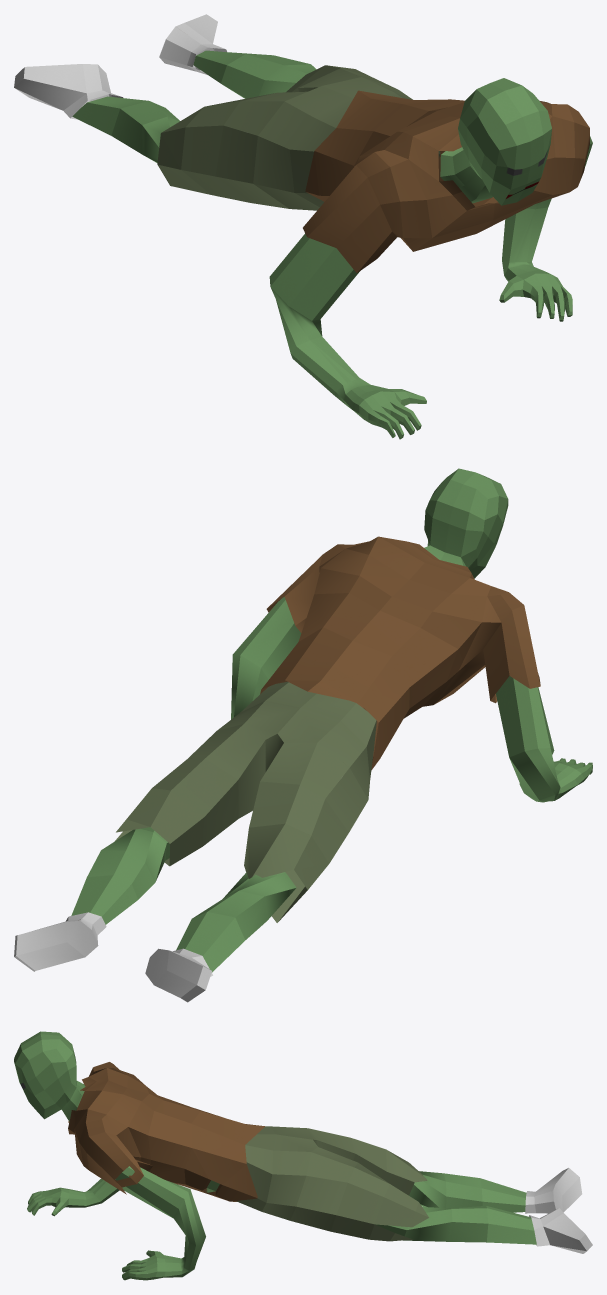
The model's file is ZombieCrawl(34).obj.
3 views of the same model, one above another, from view 1: azimuth 30°, elevation 25°; view 2: azimuth 150°, elevation 25°; view 3: azimuth 270°, elevation 25° (orthographic). The views are drawn at different scales.
Visible parts, largest first — view 1: Object001; view 2: Object001; view 3: Object001.
Boxes of the visible parts, x1,y1,x2,y2 form: Object001: [14, 14, 592, 439]; Object001: [14, 468, 592, 1002]; Object001: [14, 1031, 592, 1280].
Bounding box in the file's own units: 26.06 × 24.13 × 59.37.
